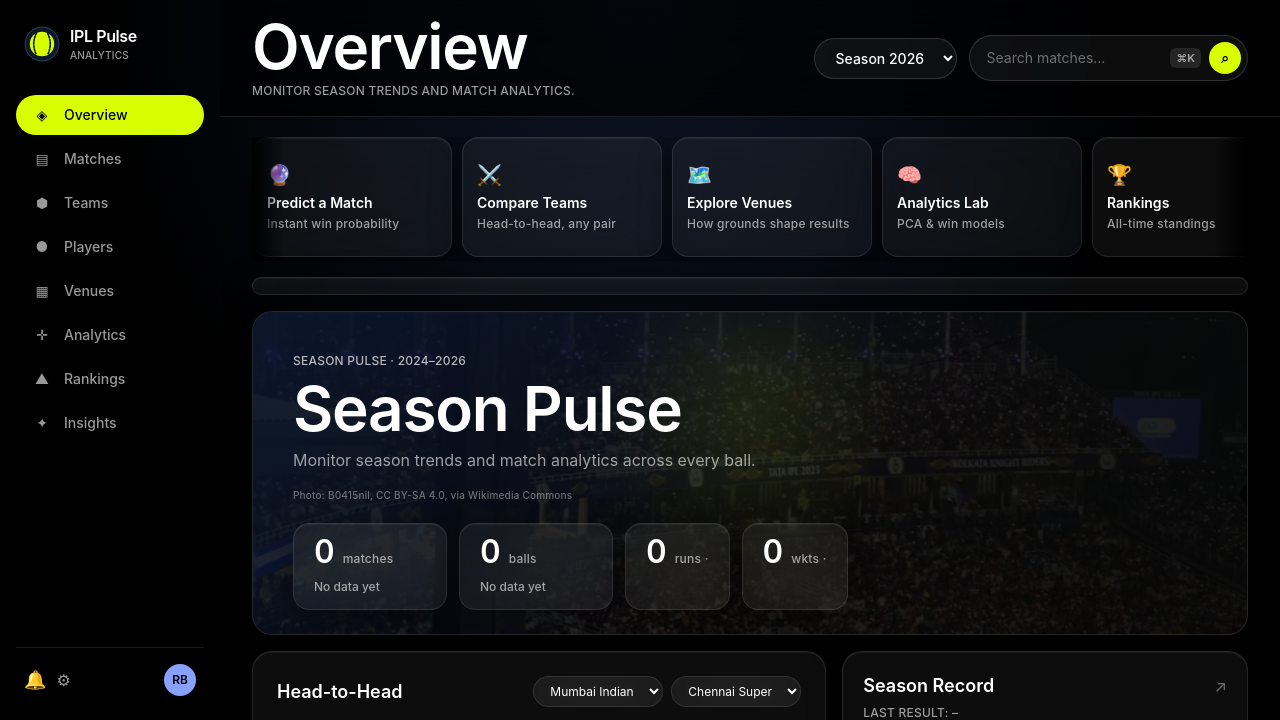
Test case: Players › searches and renders the leaderboard
Check: the heading "Season Pulse" is shown, box [293,371,682,446]
Click the button "● Players".
click(110, 247)  # box [16,227,204,267]
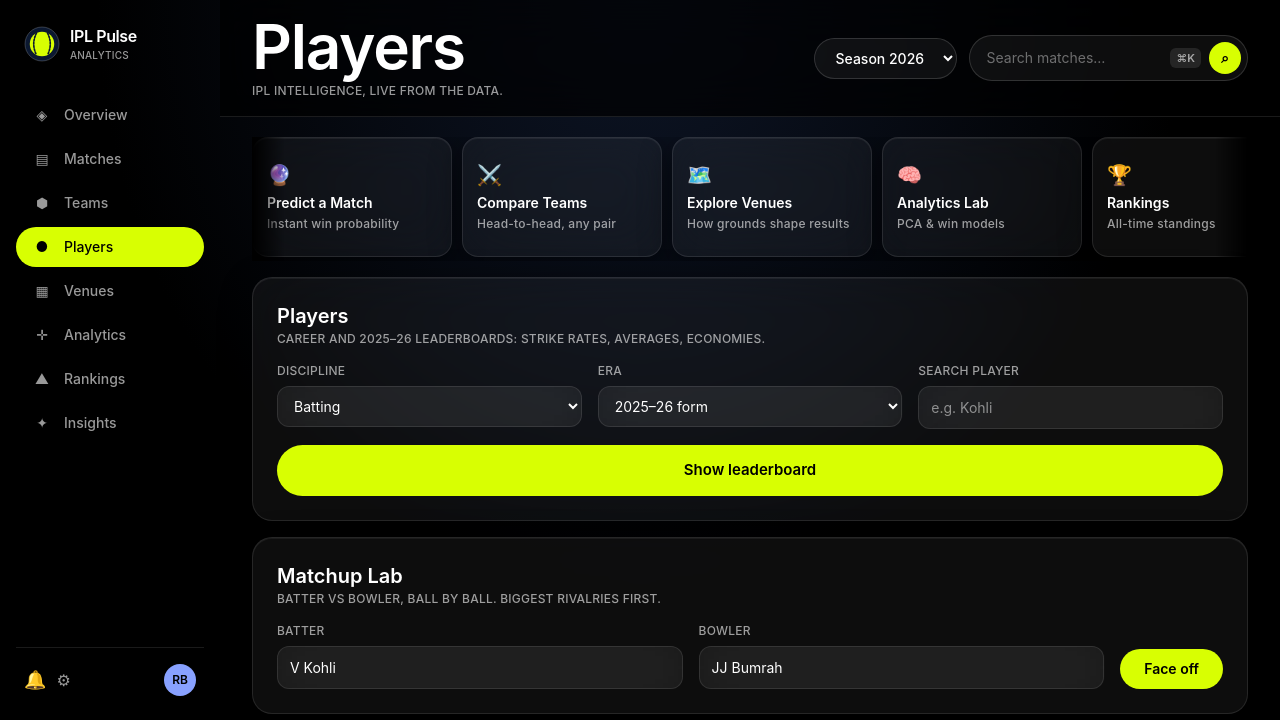
Click the button "Show leaderboard".
click(750, 470)  # box [277,445,1223,496]
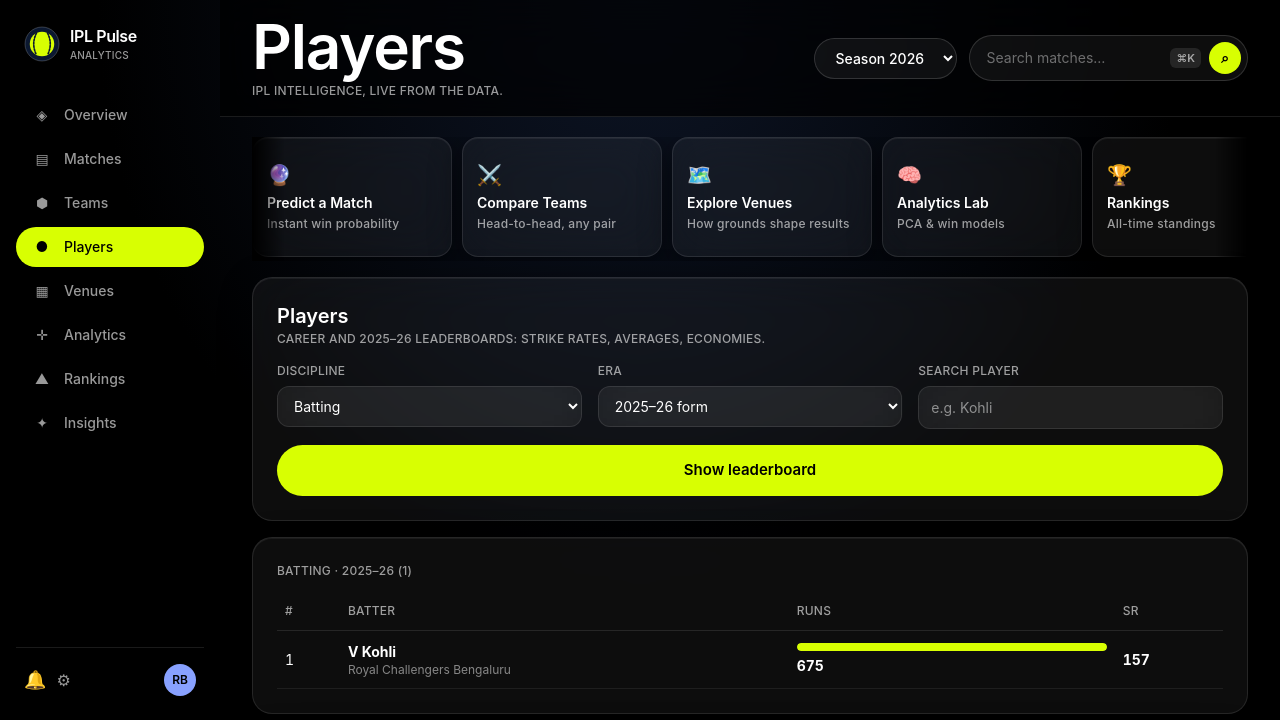
Check: the text "V Kohli" is shown, box [348,642,396,660]
